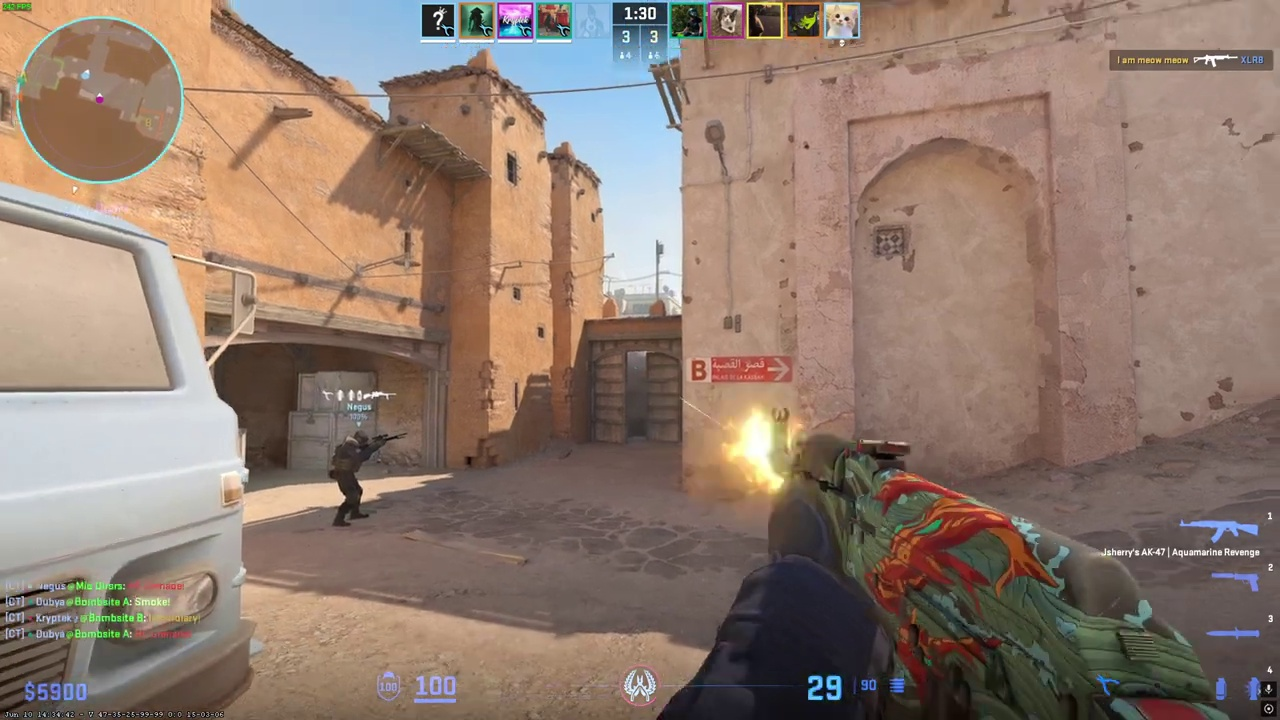CT: (331, 431, 372, 526)
